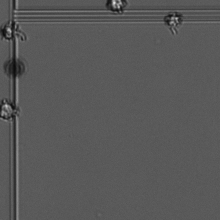Dead Cell: (1, 52, 37, 88)
Living Cell: (1, 96, 33, 129), (1, 17, 30, 46), (159, 9, 188, 38), (105, 1, 132, 27)
